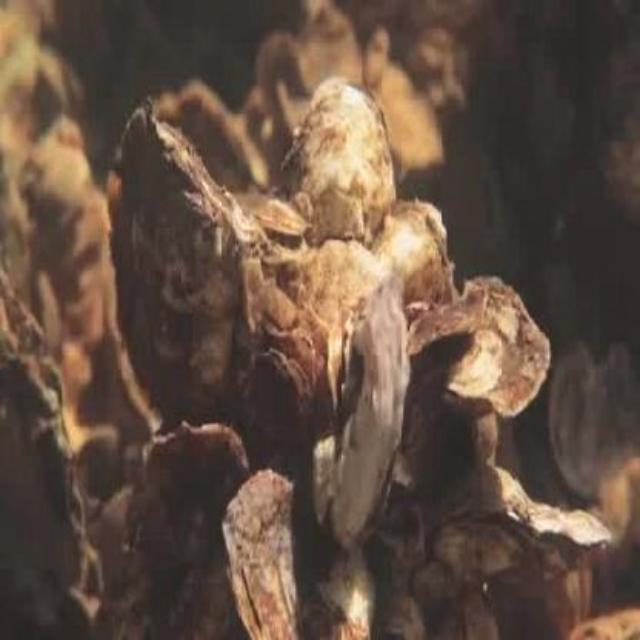Oyster-Closed: (108, 111, 262, 432), (0, 281, 102, 638), (270, 78, 398, 246), (332, 275, 410, 546), (136, 423, 249, 569), (436, 277, 552, 410), (225, 468, 313, 638), (158, 84, 264, 193), (282, 240, 388, 324), (375, 203, 451, 304), (375, 63, 442, 168), (249, 348, 308, 450), (412, 280, 484, 363), (511, 501, 615, 555), (319, 544, 377, 635), (436, 522, 522, 583), (303, 13, 367, 87), (549, 550, 596, 634), (258, 33, 309, 99), (246, 198, 309, 236), (571, 609, 638, 638), (364, 33, 388, 91), (278, 81, 299, 138)
Oyster-Open: (327, 315, 363, 429), (472, 167, 506, 239)
